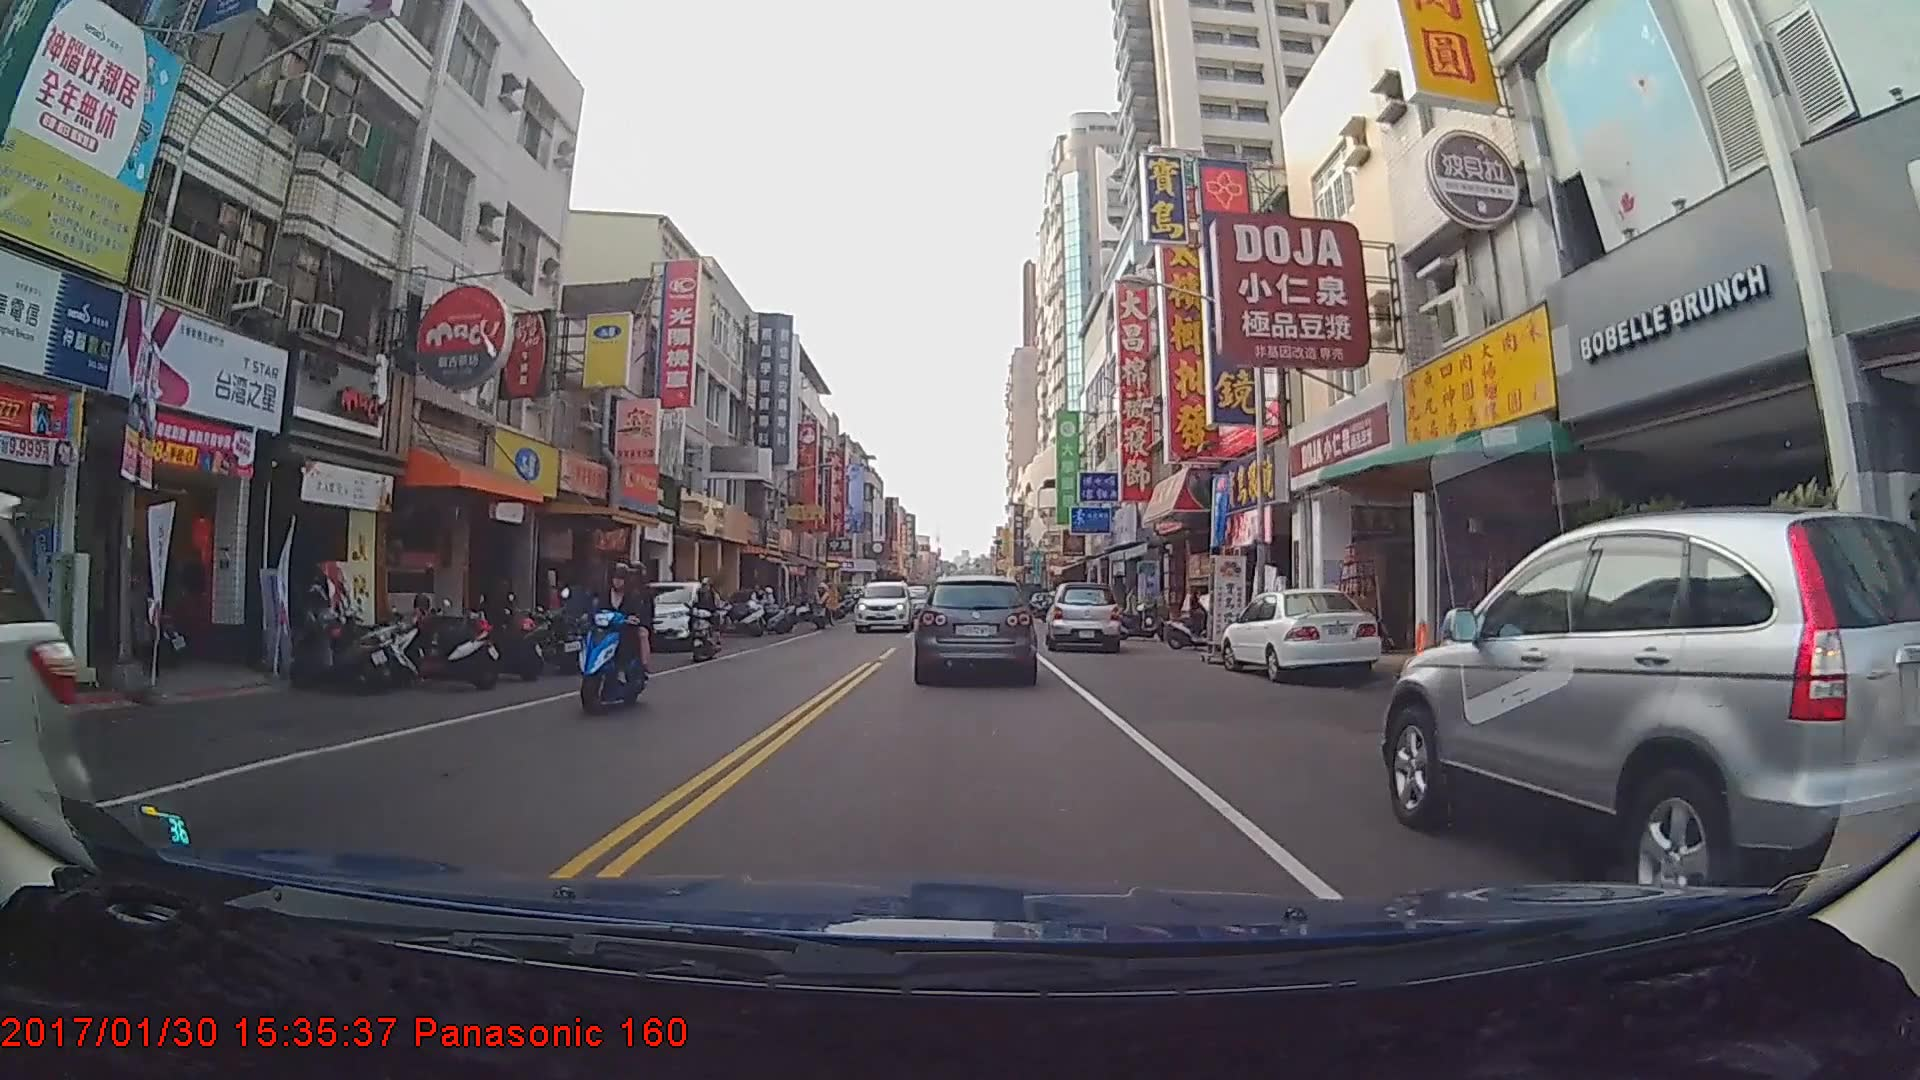rider: (574, 552, 652, 720), (1167, 585, 1228, 652), (689, 572, 723, 659)
vehicle: (1381, 509, 1920, 937), (1221, 586, 1383, 680), (918, 574, 1035, 682), (609, 580, 724, 652), (1043, 580, 1120, 651), (853, 580, 916, 633)
